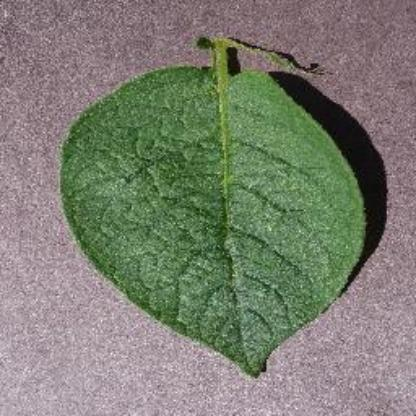Healthy-plant: (51, 28, 381, 380)
